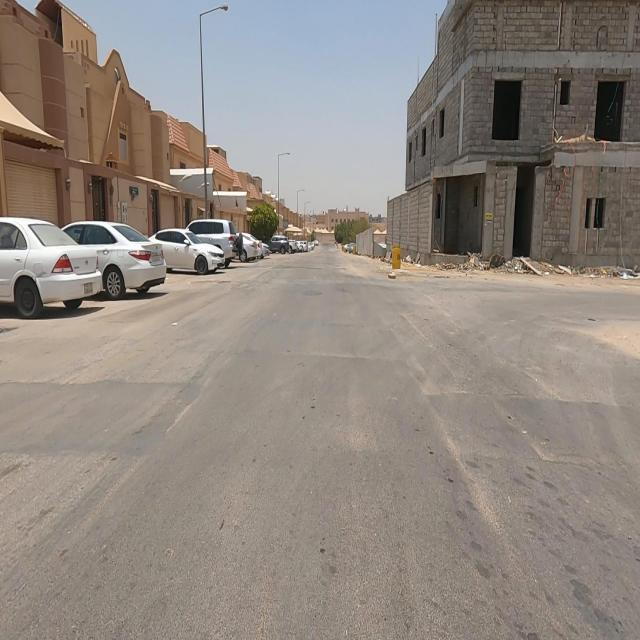debris: (448, 222, 510, 302), (494, 232, 560, 304), (382, 228, 448, 290), (544, 230, 592, 313), (590, 229, 640, 306)
